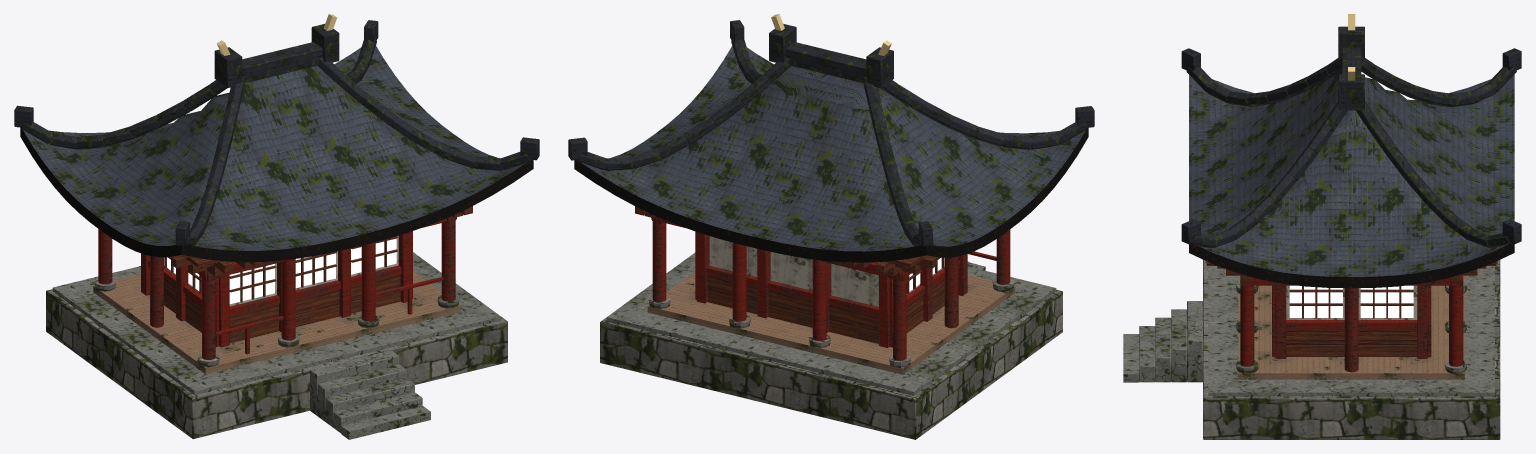
The model's file is Shrine.fbx.
3 views of the same model, side by side, from view 1: azimuth 30°, elevation 25°; view 2: azimuth 150°, elevation 25°; view 3: azimuth 270°, elevation 25° (orthographic).
Parts seen in each view (by area): view 1: Shrine_LOD0; view 2: Shrine_LOD0; view 3: Shrine_LOD0.
Part boxes in pixels (x1,y1,x2,y2): Shrine_LOD0: (14,14,539,439); Shrine_LOD0: (568,14,1094,439); Shrine_LOD0: (1123,14,1521,439).
Size of what is drawn, in the model's own units: 11.96 by 10.04 by 11.25.
